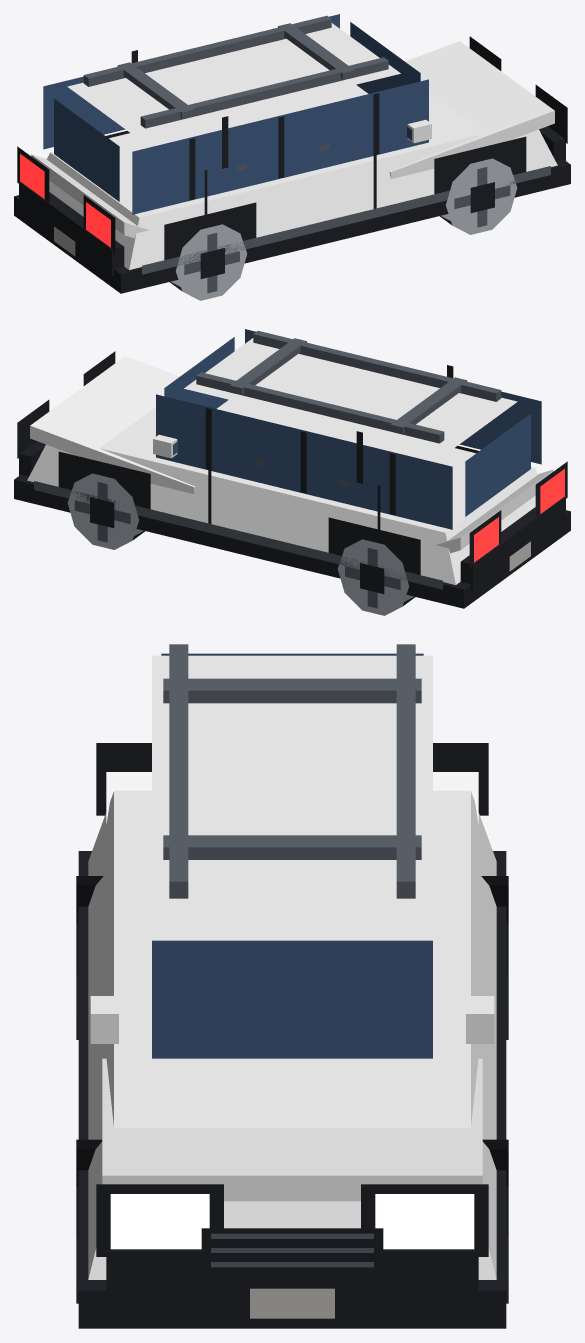
The model's file is car_station_wagon.glb.
The picture shows the model from 3 angles, top to bottom: view 1: azimuth 30°, elevation 25°; view 2: azimuth 150°, elevation 25°; view 3: azimuth 270°, elevation 25°; orthographic projection. The views are drawn at different scales.
Parts seen in each view (by area): view 1: car_station_wagon; view 2: car_station_wagon; view 3: car_station_wagon.
Boxes of the visible parts, bbox=[...] form: car_station_wagon: bbox=[14, 14, 570, 300]; car_station_wagon: bbox=[14, 329, 570, 615]; car_station_wagon: bbox=[76, 644, 508, 1328].
Size of the model in its own units: 0.4461 by 0.1603 by 0.1874.
